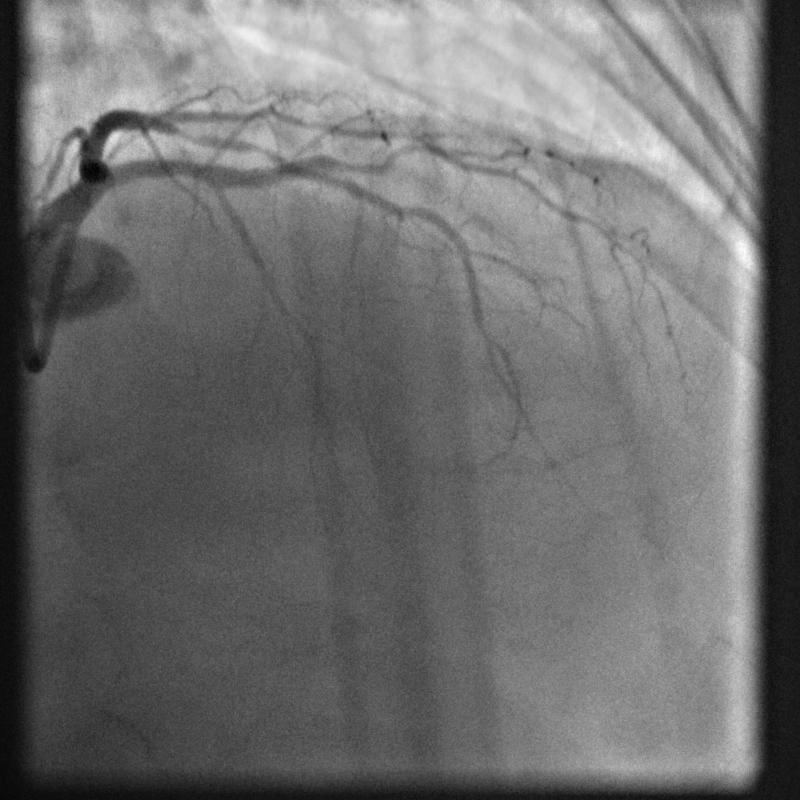Stenosis: (161, 119, 240, 153)
